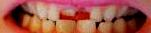Hypodontia: (59, 7, 91, 22)
